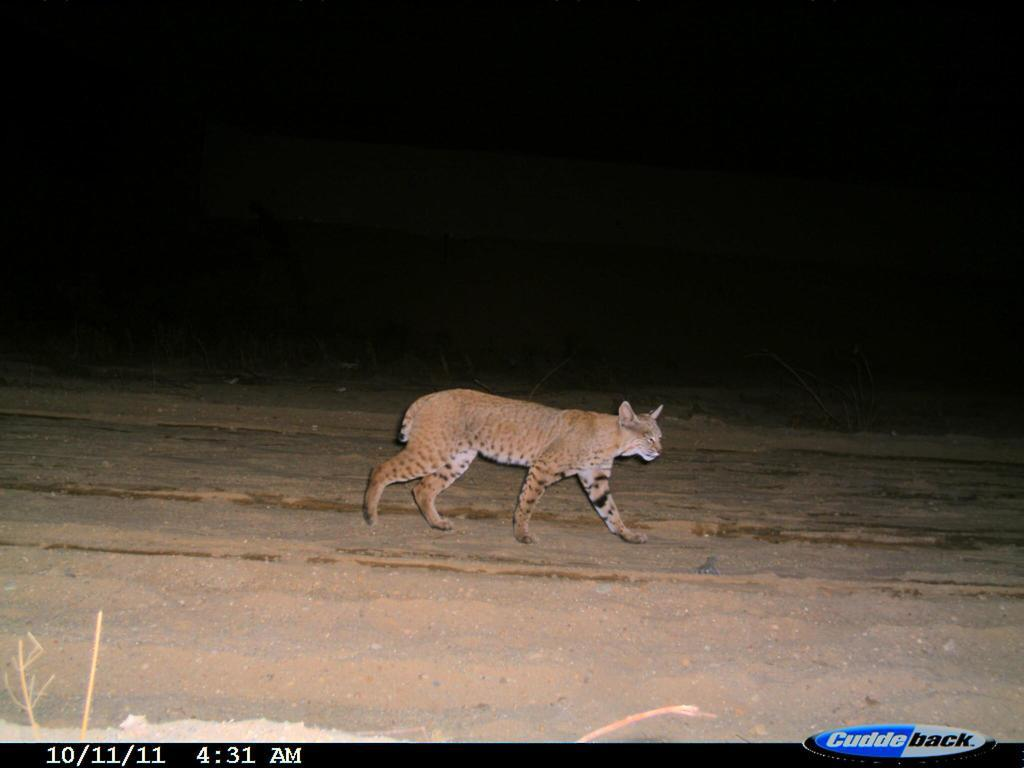bobcat: (363, 386, 667, 547)
